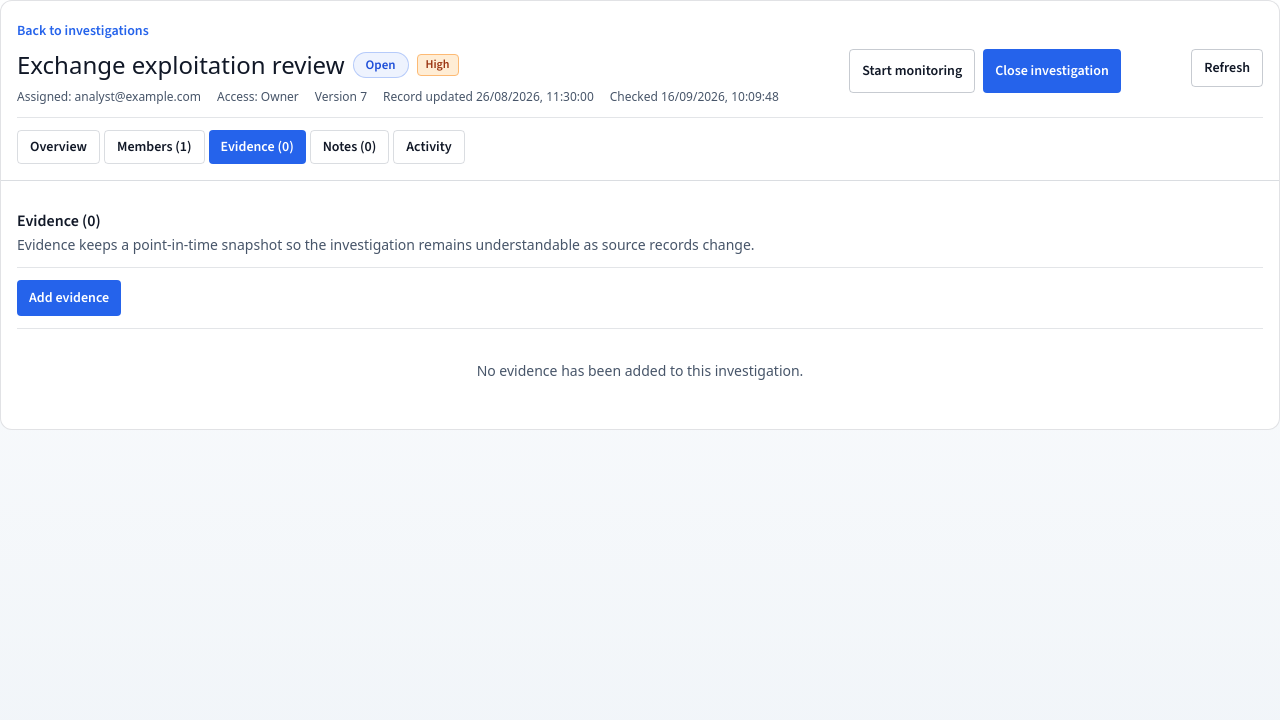
Test: Investigation evidence finder › labels bounded totals as lower bounds and always shows refinement guidance
Click the button "Add evidence" at (69, 298), box [17, 280, 121, 316]
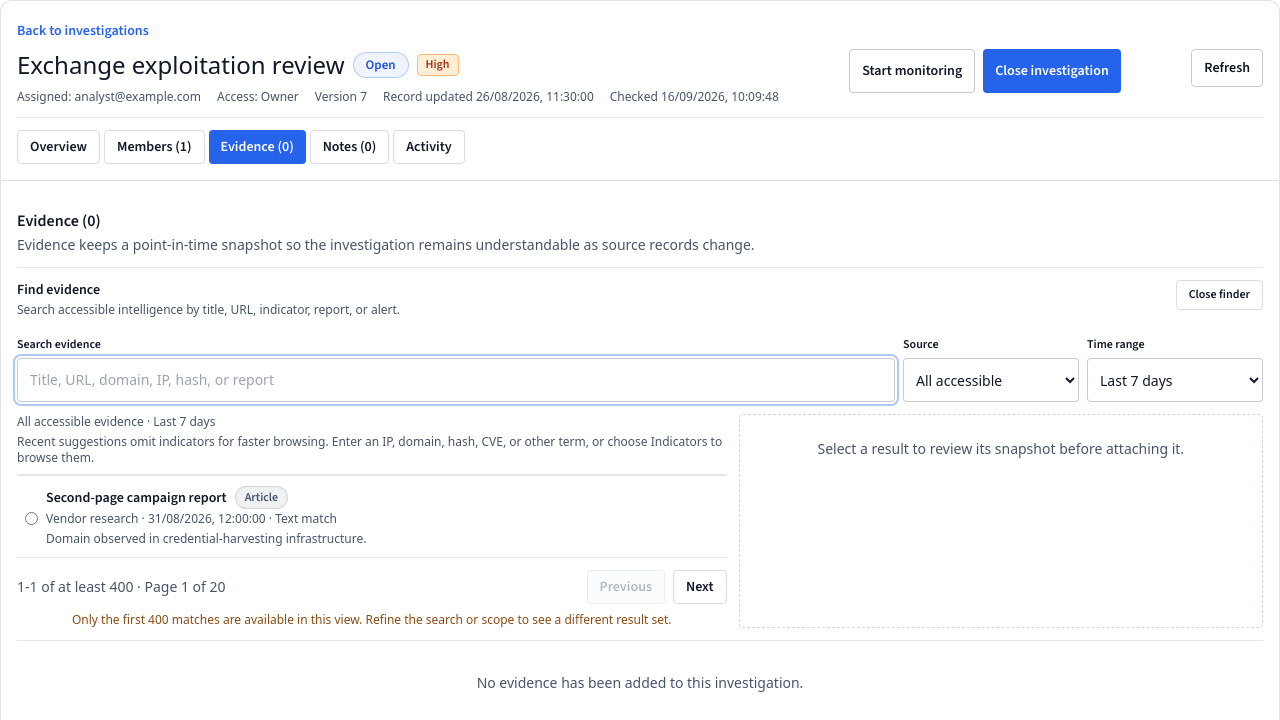
Now the text "1-1 of at least 400 · Page 1 of 20" is shown, box [17, 577, 226, 597]
Now the text "Only the first 400 matches are available in this view. Refine the search or scope" is shown, box [72, 611, 672, 628]
